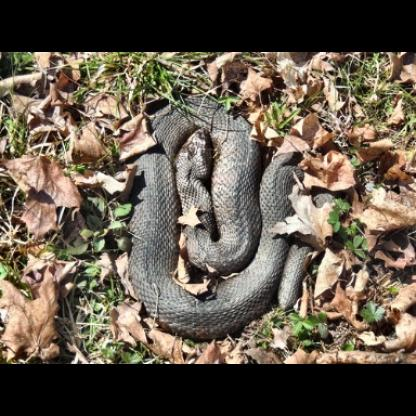Snake: (117, 89, 332, 344)
